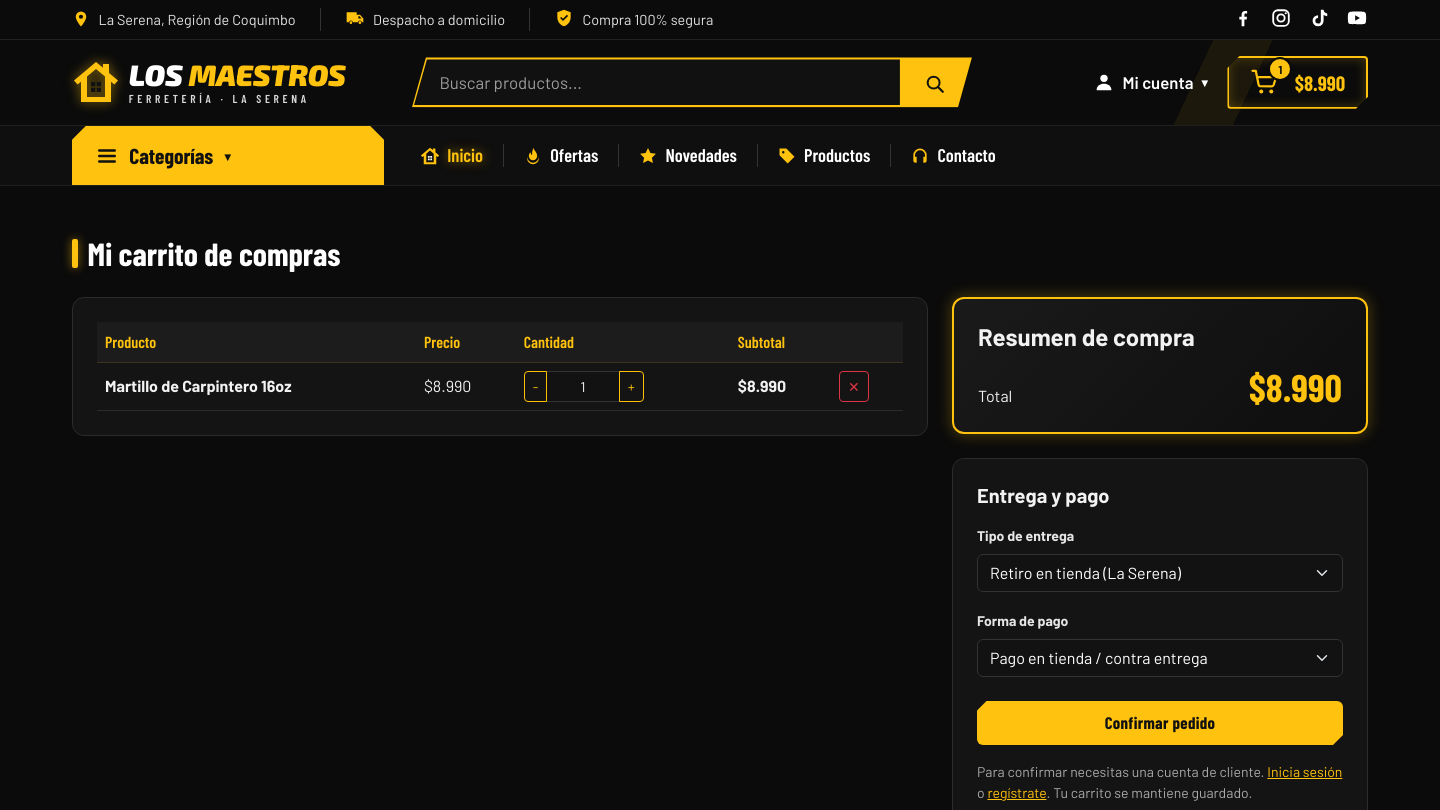
Test case: Página Carrito › el botón + aumenta la cantidad y actualiza el total (estado)
The width and height of the screenshot is (1440, 810).
Expected: the text with test id "total-compra" reads "$8.990", top-left (1249, 364), bottom-right (1342, 410)
Click the button with class "btn-mas": (631, 386) top-left (619, 371), bottom-right (644, 402)
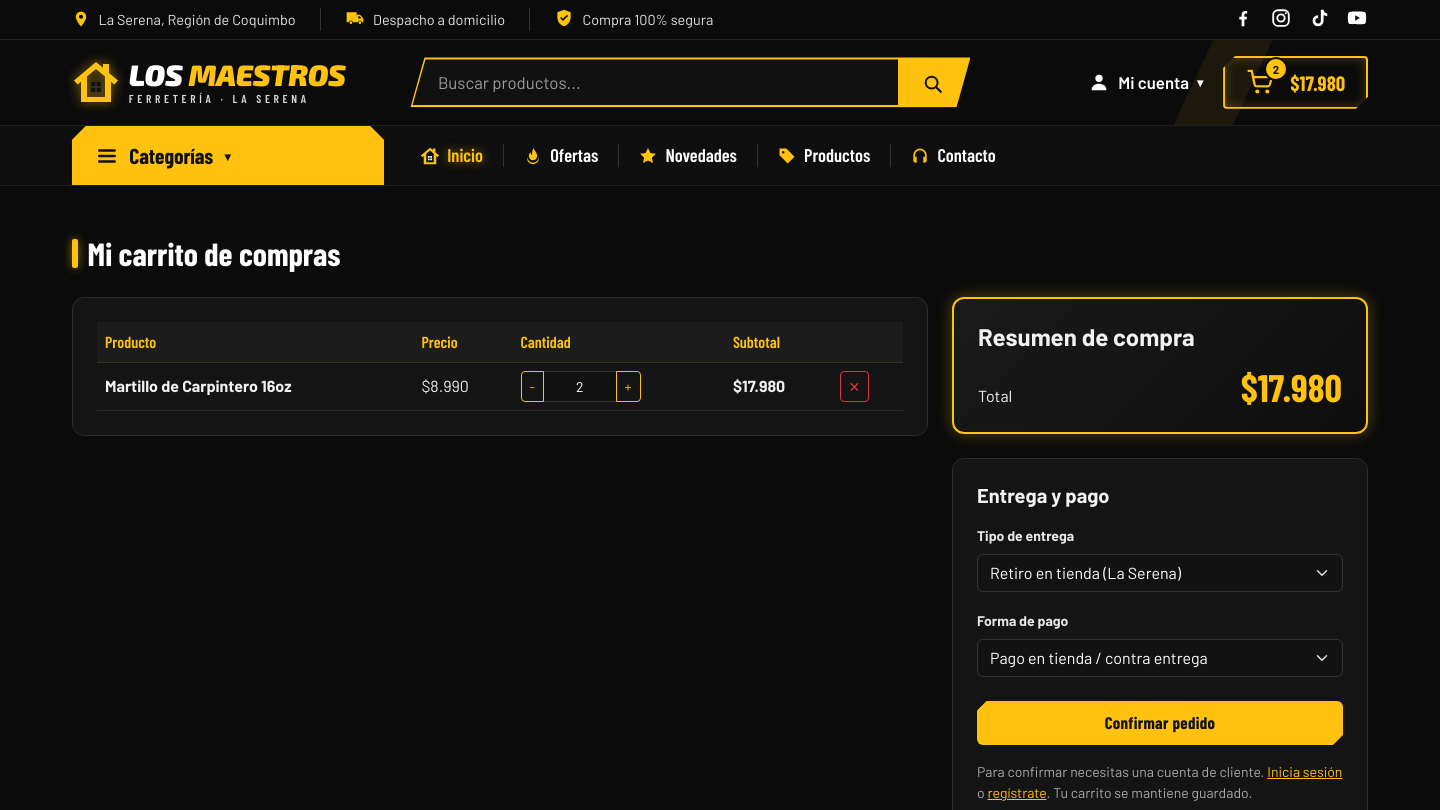
Now the text with test id "total-compra" reads "$17.980", box top-left (1241, 364), bottom-right (1342, 410)
